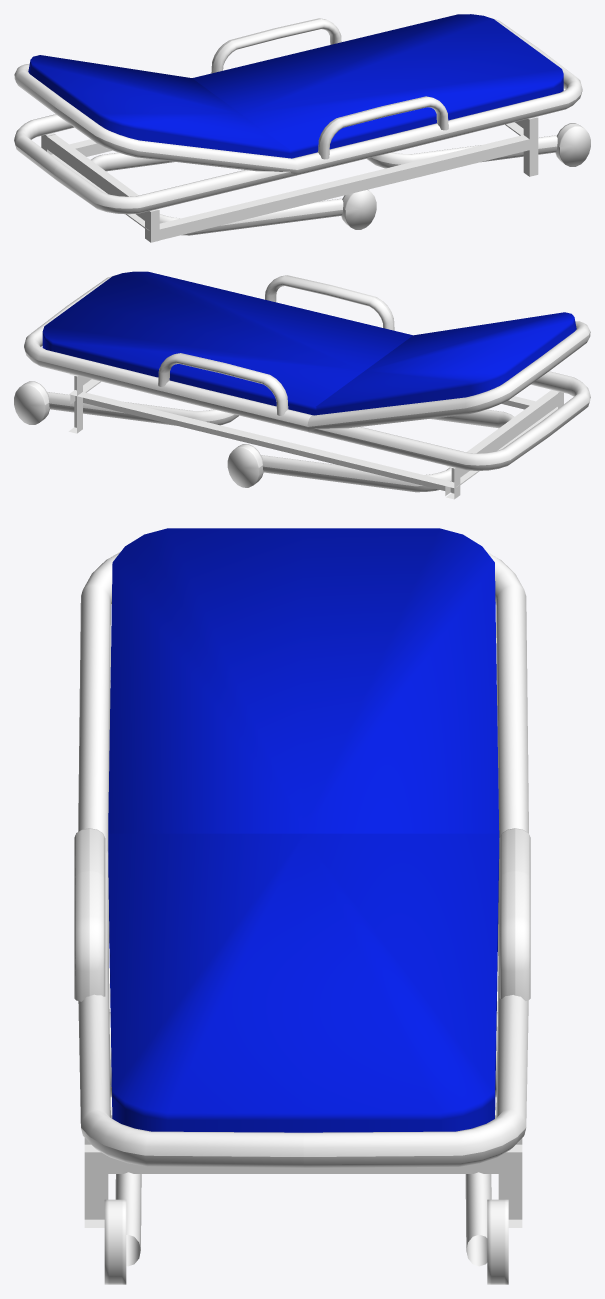
File: stretcher.fbx
3 views of the same model, one above another, from view 1: azimuth 30°, elevation 25°; view 2: azimuth 150°, elevation 25°; view 3: azimuth 270°, elevation 25° (orthographic). The views are drawn at different scales.
Parts seen in each view (by area): view 1: stretcher; view 2: stretcher; view 3: stretcher.
Boxes of the visible parts, box(x1,y1,x2,y2) form: stretcher: box(14, 14, 590, 242); stretcher: box(14, 271, 590, 499); stretcher: box(74, 528, 530, 1284).
Size of the model in its own units: 167 by 53.76 by 67.86.
